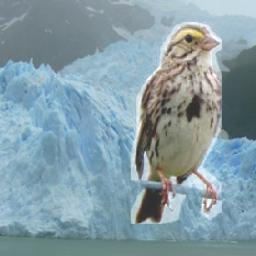Sparrow: (132, 22, 223, 224)
